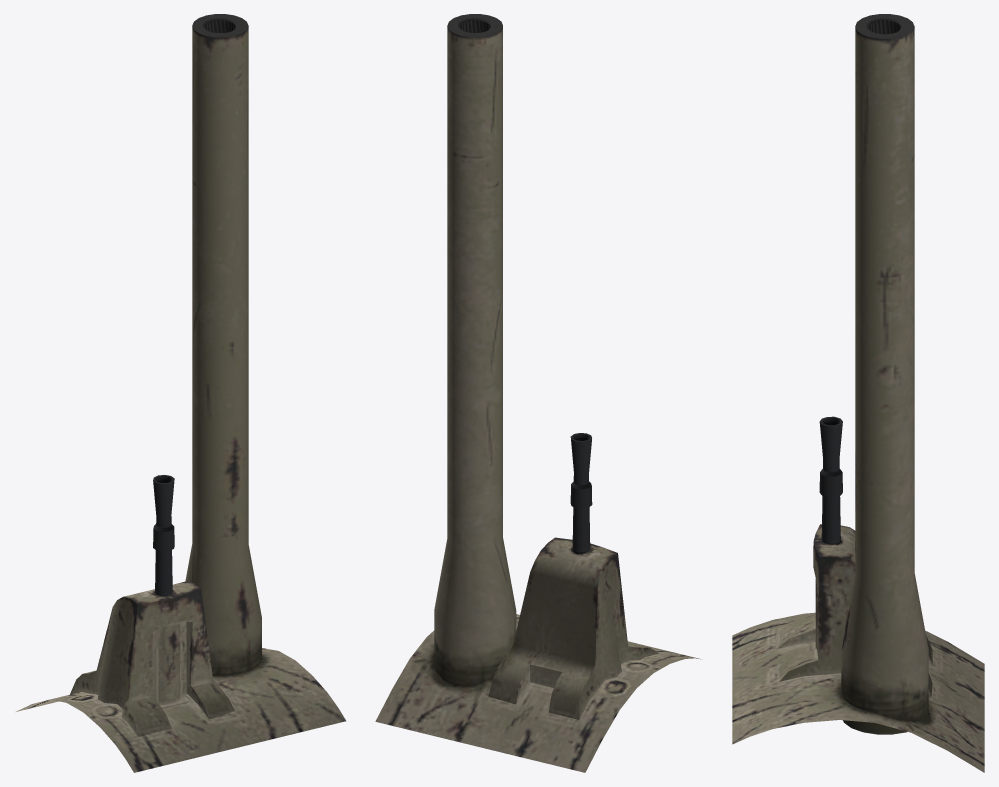
File: Gun_05.glb
The picture shows the model from 3 angles, left to right: view 1: azimuth 30°, elevation 25°; view 2: azimuth 150°, elevation 25°; view 3: azimuth 270°, elevation 25°; orthographic projection. The views are drawn at different scales.
Visible parts, largest first — view 1: set_0_group_0; view 2: set_0_group_0; view 3: set_0_group_0.
Part boxes in pixels (x1,y1,x2,y2): set_0_group_0: (16, 14, 346, 772); set_0_group_0: (375, 14, 702, 772); set_0_group_0: (732, 14, 984, 772).
Size of the model in its own units: 0.4574 by 1.4 by 0.4462.
Materials: 1 (1 with a texture image).
